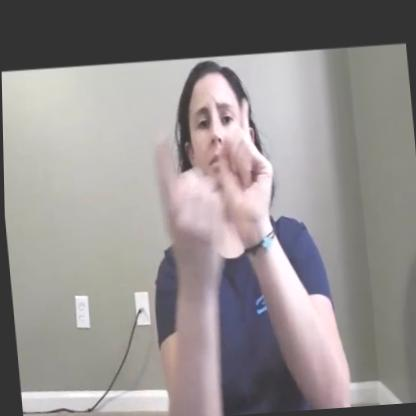NiceToMeetYou: (115, 46, 331, 305)
